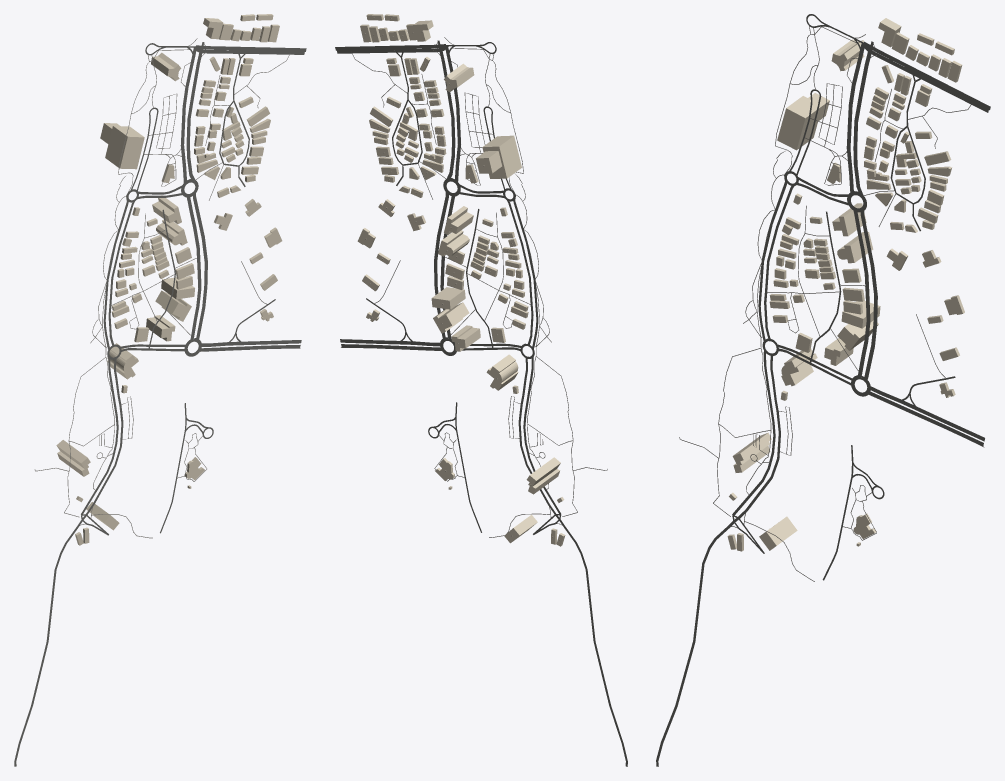
Rendered from historic-palestine-06_29_3484_3231.glb.
3 renders of one model, left to right at view 1: azimuth 30°, elevation 25°; view 2: azimuth 150°, elevation 25°; view 3: azimuth 330°, elevation 25°, orthographic. The views are drawn at different scales.
Visible parts, largest first — view 1: Building_, Road עובד בן עמי.002, Building_.059, Building_.089, Road בן גוריון.003, Road בן גוריון.002, Building_.087, Road בן גוריון.001, Road בן גוריון, Building_.090; view 2: Road עובד בן עמי.002, Building_, Building_.089, Building_.059, Building_.087, Building_.040, Building_.090, Building_.092, Building_.091; view 3: Building_, Road עובד בן עמי.002, Building_.059, Building_.089, Road בן גוריון.003, Road בן גוריון.002, Road בן גוריון.001, Road בן גוריון, Building_.086, Building_.088, Building_.090.
Part boxes in pixels (x1,y1,x2,y2): Building_: [105, 126, 144, 169]; Road עובד בן עמי.002: [14, 358, 123, 766]; Building_.059: [56, 440, 90, 476]; Building_.089: [107, 343, 138, 379]; Road בן גוריון.003: [193, 193, 207, 339]; Road בן גוריון.002: [186, 195, 201, 340]; Building_.087: [155, 290, 191, 321]; Road בן גוריון.001: [180, 47, 196, 183]; Road בן גוריון: [186, 51, 202, 182]; Building_.090: [156, 219, 187, 245]; Road עובד בן עמי.002: [518, 358, 627, 766]; Building_: [482, 135, 521, 178]; Building_.089: [486, 354, 518, 390]; Building_.059: [526, 457, 560, 494]; Building_.087: [433, 302, 469, 333]; Building_.040: [431, 287, 465, 309]; Building_.090: [438, 230, 469, 256]; Building_.092: [444, 206, 473, 234]; Building_.091: [451, 325, 480, 351]; Building_: [777, 96, 822, 150]; Road עובד בן עמי.002: [656, 355, 780, 766]; Building_.059: [732, 432, 771, 472]; Building_.089: [781, 348, 817, 386]; Road בן גוריון.003: [860, 209, 877, 379]; Road בן גוריון.002: [853, 209, 870, 376]; Road בן גוריון.001: [846, 43, 864, 193]; Road בן גוריון: [853, 50, 871, 196]; Building_.086: [759, 516, 797, 550]; Building_.088: [831, 39, 864, 71]; Building_.090: [837, 232, 873, 263].
Size of the model in its own units: 703 by 1602 by 104.
